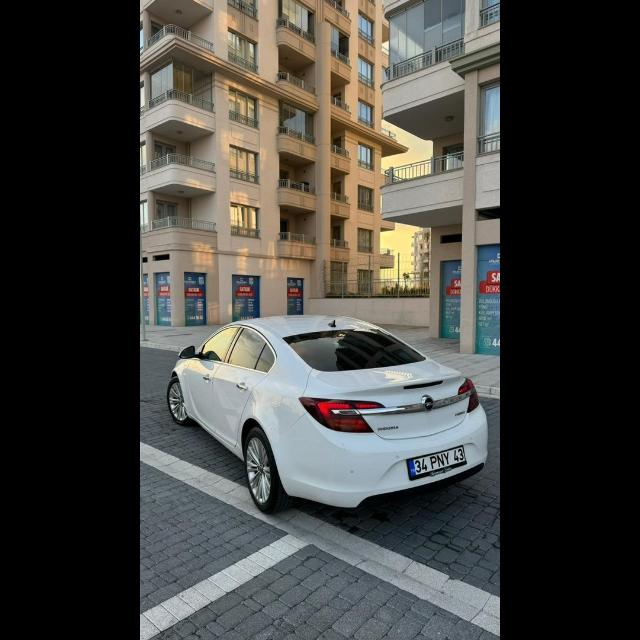Plaka: (409, 445, 466, 475)
